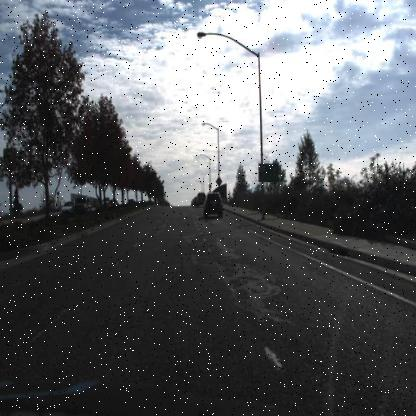car: (202, 192, 224, 218), (72, 193, 92, 216), (59, 201, 74, 217), (195, 192, 207, 207), (100, 198, 108, 209), (192, 195, 200, 206), (126, 200, 136, 204)
